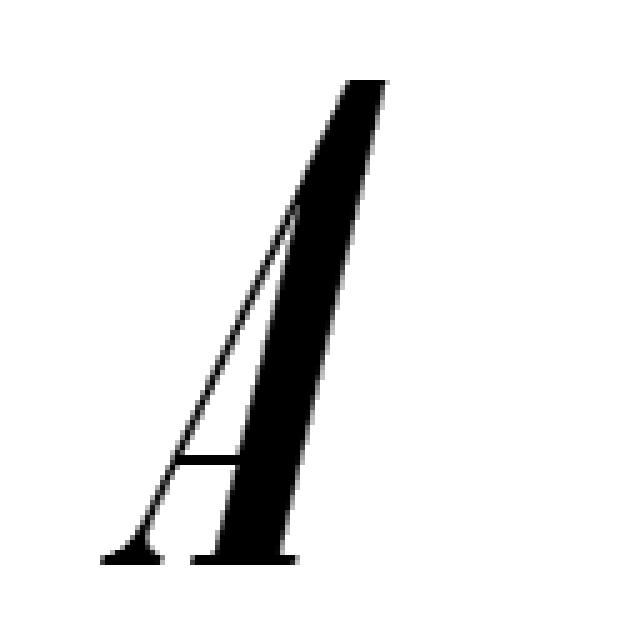A: (90, 65, 395, 570)
